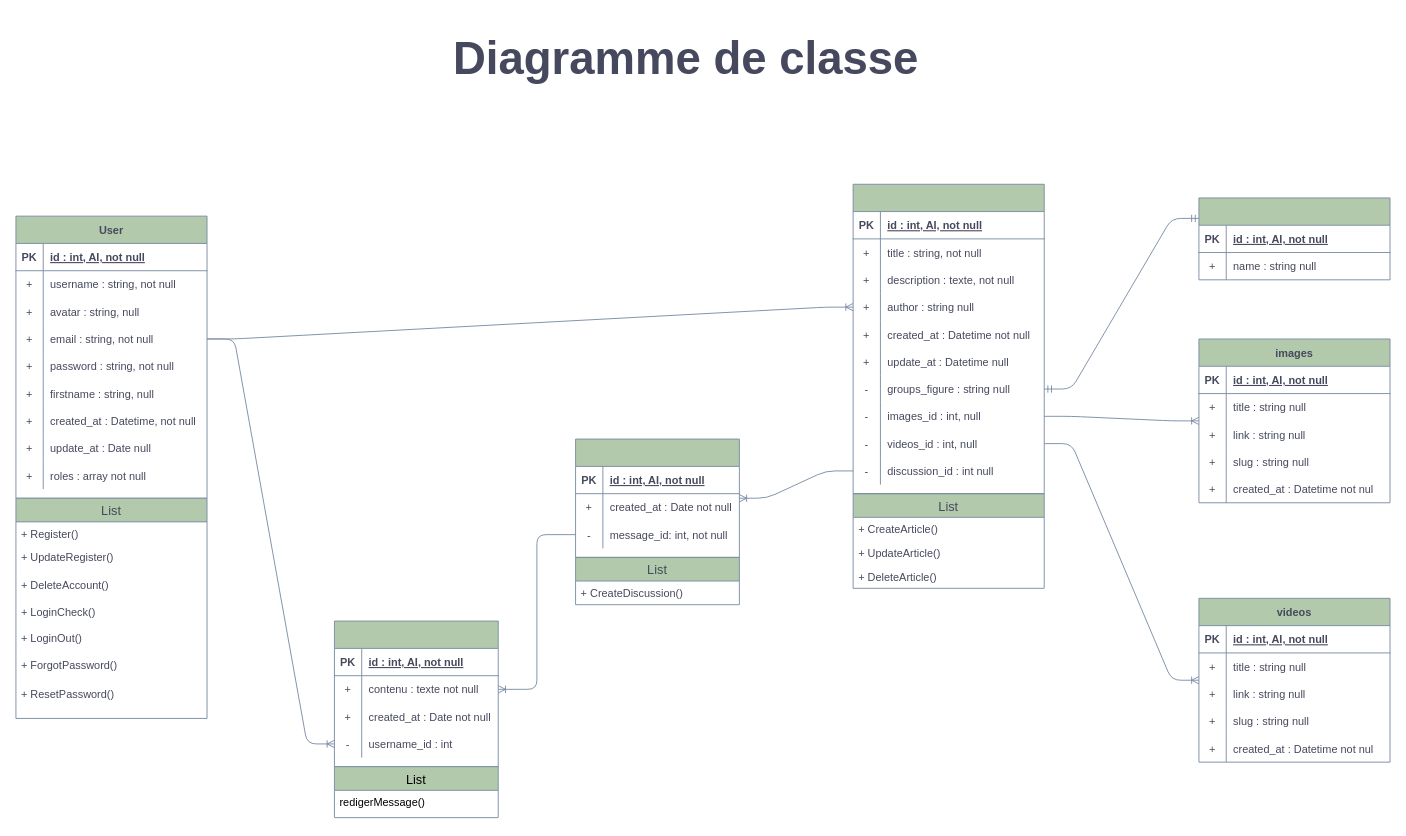
This 1406x836 diagram has some shape labels left out. Each missing label, with the box of its shape:
Article: (852, 183, 1044, 494)
Discussion: (575, 438, 739, 557)
Group_figure: (1198, 197, 1390, 280)
message: (334, 620, 498, 767)
